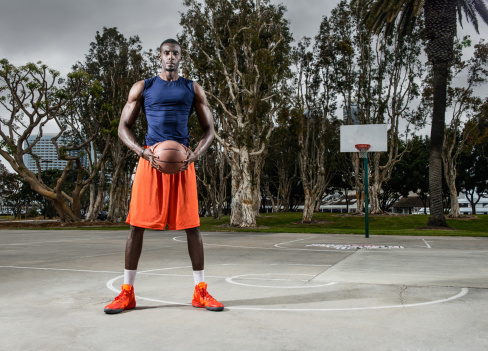em pe: (101, 29, 230, 337)
